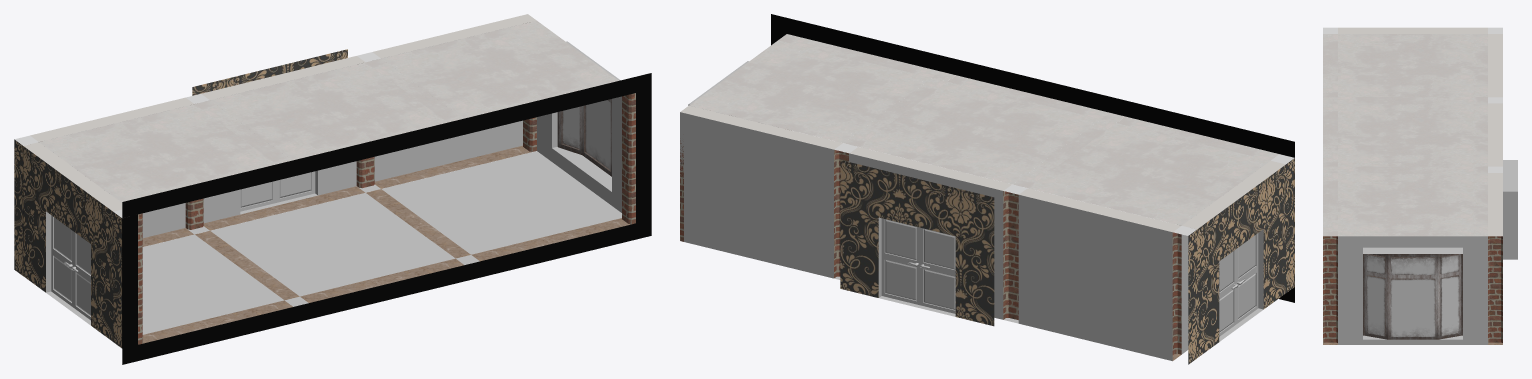
File: Firstfloor_frontroom_right.fbx
3 renders of one model, left to right at view 1: azimuth 30°, elevation 25°; view 2: azimuth 150°, elevation 25°; view 3: azimuth 270°, elevation 25°, orthographic. The views are drawn at different scales.
Parts seen in each view (by area): view 1: Floor_mainfloor.012, Floor_mainfloor.011, Ceiling_mainfloor.010, Ceiling_mainfloor.011, Ceiling_mainfloor.012, Wall_mainfloor.014, Floor_mainfloor.013, Wall_Window_Mainroom.004, Wall_mainfloor.028, Wall_mainfloor.030, Wall_mainfloor.013, Transition_Floor.016 (+28 smaller); view 2: Wall_mainfloor.027, Wall_mainfloor.028, Wall_mainfloor.030, Ceiling_mainfloor.010, Ceiling_mainfloor.012, Ceiling_mainfloor.011, Wall_mainfloor.014, Wall_mainfloor.029, Wall_mainfloor.013, Transition_Floor.014, Transition_Floor.016, Transition_Floor.015 (+14 smaller); view 3: Wall_Window_Mainroom.004, Ceiling_mainfloor.010, Ceiling_mainfloor.011, Ceiling_mainfloor.012, Cube.091, Cube.059, Wall_mainfloor.030, Cube.088, Cube.093, Cube.123, Cube.090, Cube.094 (+5 smaller).
Part boxes in pixels (bbox=[...]): Floor_mainfloor.012: bbox=[210, 193, 455, 296]; Floor_mainfloor.011: bbox=[381, 151, 621, 254]; Ceiling_mainfloor.010: bbox=[381, 20, 618, 118]; Ceiling_mainfloor.011: bbox=[210, 62, 447, 160]; Ceiling_mainfloor.012: bbox=[39, 104, 276, 202]; Wall_mainfloor.014: bbox=[23, 146, 113, 341]; Floor_mainfloor.013: bbox=[142, 234, 283, 334]; Wall_Window_Mainroom.004: bbox=[537, 41, 621, 212]; Wall_mainfloor.028: bbox=[374, 120, 522, 181]; Wall_mainfloor.030: bbox=[192, 49, 356, 223]; Wall_mainfloor.013: bbox=[51, 215, 90, 320]; Transition_Floor.016: bbox=[137, 160, 293, 214]; Wall_mainfloor.027: bbox=[1018, 195, 1172, 360]; Wall_mainfloor.028: bbox=[680, 112, 833, 278]; Wall_mainfloor.030: bbox=[840, 153, 1003, 326]; Ceiling_mainfloor.010: bbox=[689, 40, 931, 142]; Ceiling_mainfloor.012: bbox=[1028, 123, 1269, 225]; Ceiling_mainfloor.011: bbox=[859, 82, 1100, 184]; Wall_mainfloor.014: bbox=[1181, 164, 1285, 357]; Wall_mainfloor.029: bbox=[881, 218, 955, 313]; Wall_mainfloor.013: bbox=[1219, 233, 1258, 336]; Transition_Floor.014: bbox=[786, 18, 940, 71]; Transition_Floor.016: bbox=[1125, 100, 1279, 153]; Transition_Floor.015: bbox=[956, 59, 1109, 112]; Wall_Window_Mainroom.004: bbox=[1338, 236, 1487, 344]; Ceiling_mainfloor.010: bbox=[1338, 173, 1487, 236]; Ceiling_mainfloor.011: bbox=[1338, 103, 1487, 166]; Ceiling_mainfloor.012: bbox=[1338, 34, 1487, 97]; Cube.091: bbox=[1323, 236, 1337, 342]; Cube.059: bbox=[1488, 236, 1502, 342]; Wall_mainfloor.030: bbox=[1503, 160, 1517, 259]; Cube.088: bbox=[1338, 166, 1487, 172]; Cube.093: bbox=[1338, 97, 1487, 103]; Cube.123: bbox=[1338, 27, 1487, 33]; Cube.090: bbox=[1323, 173, 1337, 236]; Cube.094: bbox=[1323, 103, 1337, 166].
Size of the model in its own units: 1705 by 500 by 651.
